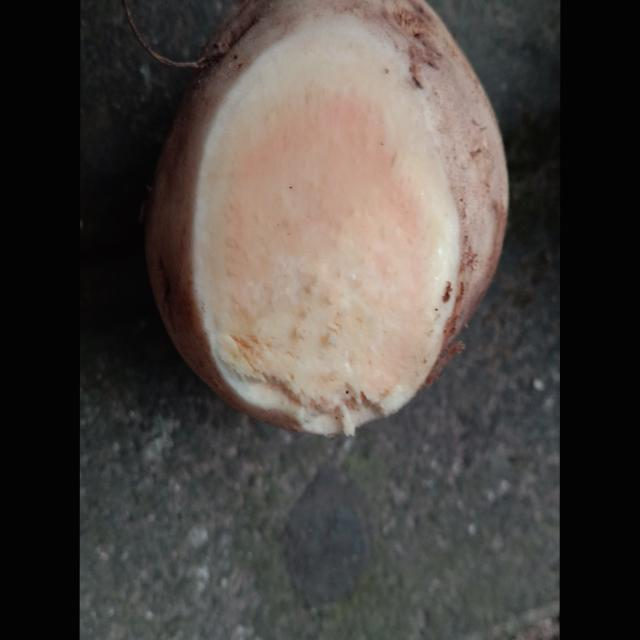Healthy Sweet Potato: (192, 18, 460, 435)
